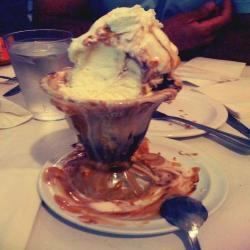icecream: (58, 7, 182, 101)
